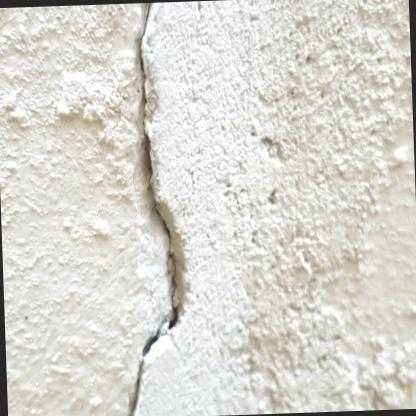crack: (127, 2, 177, 416)
